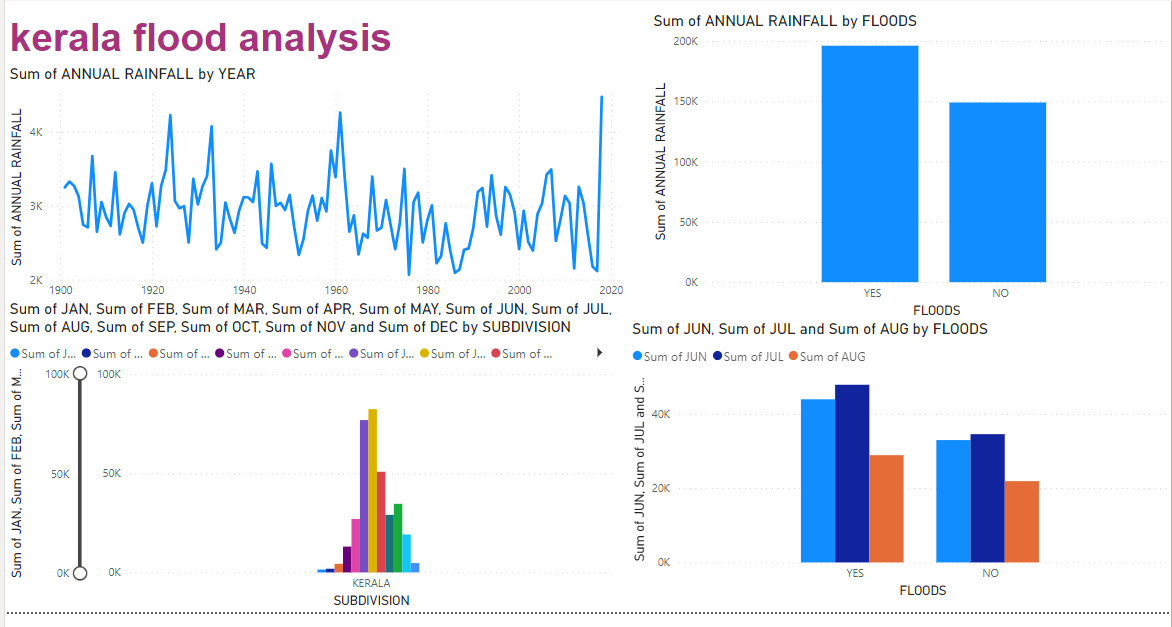

The dashboard page shown, as its layout file describes it:
{"tool":"powerbi","page":{"name":"Page 1","canvas":[1280,720],"ordinal":0},"visuals":[{"type":"lineChart","fields":{"Category":["kerala_csv.YEAR"],"Y":["Sum(kerala_csv. ANNUAL RAINFALL)"]},"box":[0,119.4,683.4,279.9],"z":0},{"type":"clusteredColumnChart","fields":{"Category":["kerala_csv.SUBDIVISION"],"Y":["Sum(kerala_csv.JAN)","Sum(kerala_csv.FEB)","Sum(kerala_csv.MAR)","Sum(kerala_csv.APR)","Sum(kerala_csv.MAY)","Sum(kerala_csv.JUN)","Sum(kerala_csv.JUL)","Sum(kerala_csv.AUG)","Sum(kerala_csv.SEP)","Sum(kerala_csv.OCT)","Sum(kerala_csv.NOV)","Sum(kerala_csv.DEC)"]},"box":[0,377.4,672.4,343.1],"z":1000},{"type":"clusteredColumnChart","fields":{"Category":["kerala_csv.FLOODS"],"Y":["Sum(kerala_csv. ANNUAL RAINFALL)"]},"box":[706.7,60.4,573.6,341.7],"z":2000},{"type":"clusteredColumnChart","fields":{"Category":["kerala_csv.FLOODS"],"Y":["Sum(kerala_csv.JUN)","Sum(kerala_csv.JUL)","Sum(kerala_csv.AUG)"]},"box":[683.4,399.3,596.9,310.1],"z":2001},{"type":"textbox","box":[0,60.4,601,59],"z":2003},{"type":"qnaVisual","box":[601,0,150,150],"z":2004}]}

Visuals, with their boxes in screenshot pixels (x1, y1, x2, y2):
lineChart - kerala_csv.YEAR x Sum(kerala_csv. ANNUAL RAINFALL): bbox(73, 76, 680, 324)
clusteredColumnChart - kerala_csv.SUBDIVISION x Sum(kerala_csv.JAN): bbox(73, 305, 671, 610)
clusteredColumnChart - kerala_csv.FLOODS x Sum(kerala_csv. ANNUAL RAINFALL): bbox(701, 23, 1171, 327)
clusteredColumnChart - kerala_csv.FLOODS x Sum(kerala_csv.JUN): bbox(680, 324, 1171, 600)
textbox: bbox(73, 23, 607, 76)
qnaVisual: bbox(607, 0, 740, 103)
